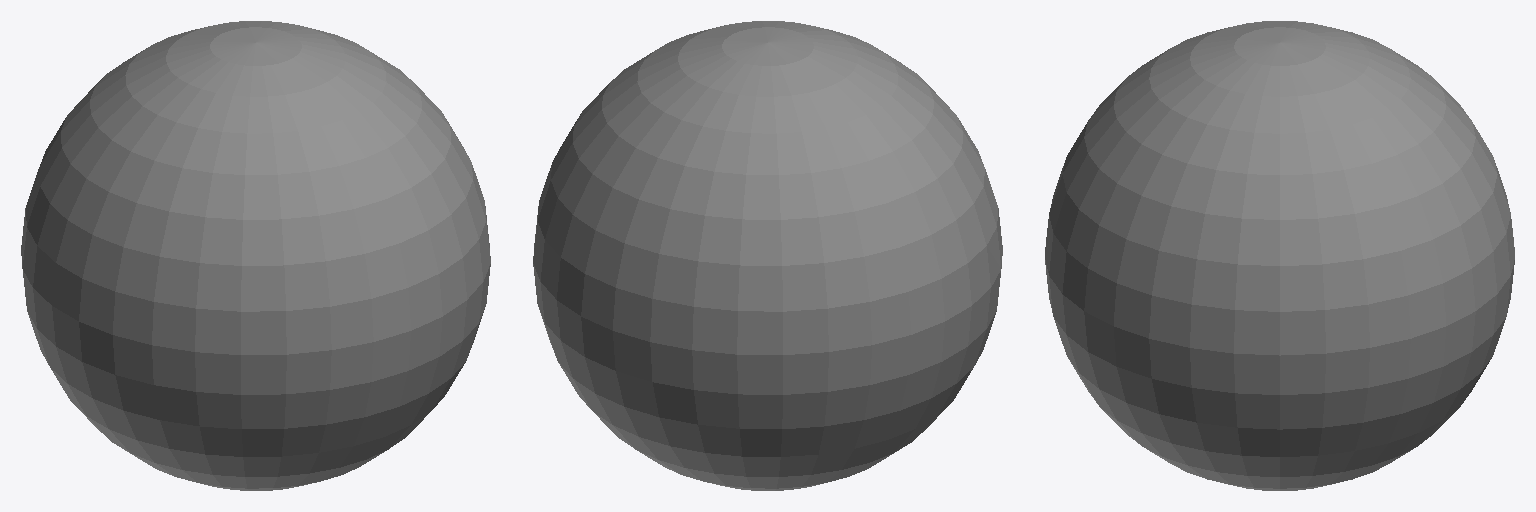
Rendered from earth.obj.
3 renders of one model, left to right at view 1: azimuth 30°, elevation 25°; view 2: azimuth 150°, elevation 25°; view 3: azimuth 270°, elevation 25°, orthographic.
Parts seen in each view (by area): view 1: Earth; view 2: Earth; view 3: Earth.
Part boxes in pixels (x1,y1,x2,y2): Earth: (21, 21, 490, 490); Earth: (533, 21, 1002, 490); Earth: (1045, 21, 1514, 490).
Size of the model in its own units: 160 by 160 by 160.